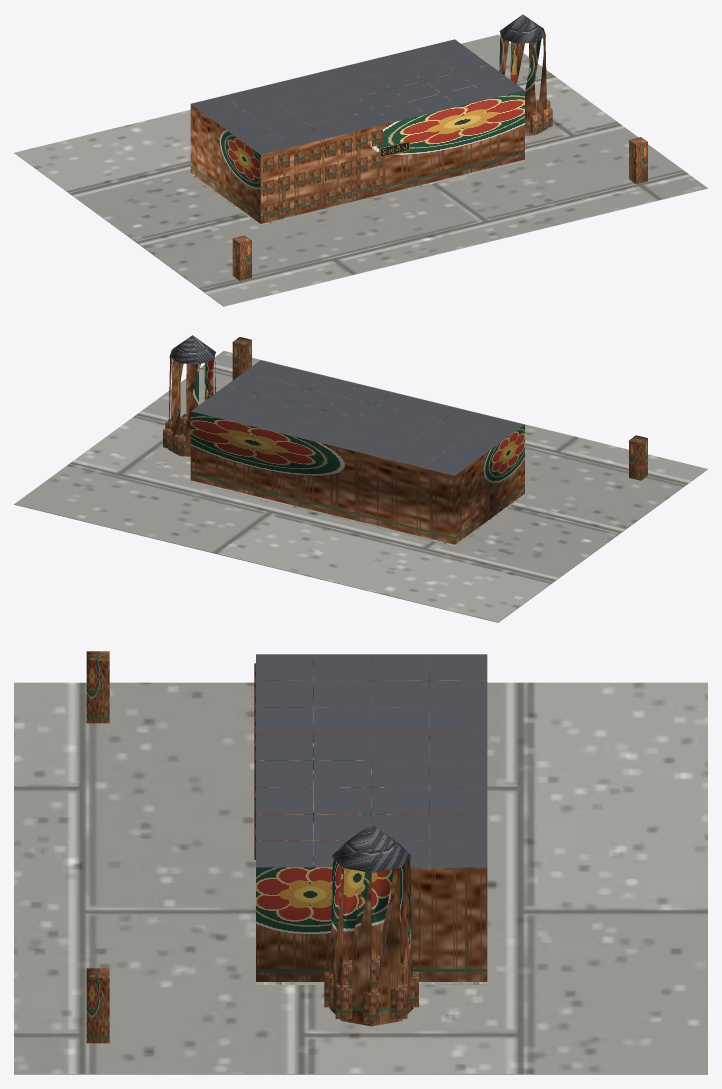
The picture shows the model from 3 angles, top to bottom: view 1: azimuth 30°, elevation 25°; view 2: azimuth 150°, elevation 25°; view 3: azimuth 270°, elevation 25°; orthographic projection. The views are drawn at different scales.
Parts seen in each view (by area): view 1: 11680_01_06253_021_01_L2__base, 11680_01_06253_021_02_L2__body, 11680_01_06253_021_03_L2__roof, 11680_01_06253_021_05_L2__openings, 11680_01_06253_021_06_L2__green; view 2: 11680_01_06253_021_01_L2__base, 11680_01_06253_021_02_L2__body, 11680_01_06253_021_03_L2__roof, 11680_01_06253_021_06_L2__green; view 3: 11680_01_06253_021_01_L2__base, 11680_01_06253_021_03_L2__roof, 11680_01_06253_021_02_L2__body, 11680_01_06253_021_06_L2__green.
Part boxes in pixels (box(x1,y1,x2,y2)): 11680_01_06253_021_01_L2__base: box(14, 34, 707, 306); 11680_01_06253_021_02_L2__body: box(190, 34, 552, 223); 11680_01_06253_021_03_L2__roof: box(191, 14, 545, 154); 11680_01_06253_021_05_L2__openings: box(263, 129, 382, 219); 11680_01_06253_021_06_L2__green: box(232, 137, 647, 280); 11680_01_06253_021_01_L2__base: box(14, 351, 707, 622); 11680_01_06253_021_02_L2__body: box(163, 357, 524, 544); 11680_01_06253_021_03_L2__roof: box(169, 335, 524, 475); 11680_01_06253_021_06_L2__green: box(232, 337, 647, 480); 11680_01_06253_021_01_L2__base: box(14, 682, 707, 1074); 11680_01_06253_021_03_L2__roof: box(256, 654, 486, 872); 11680_01_06253_021_02_L2__body: box(256, 654, 487, 1026); 11680_01_06253_021_06_L2__green: box(86, 651, 109, 1043).
Size of the model in its own units: 88 by 19.8 by 66.
5 materials, 5 textured.
